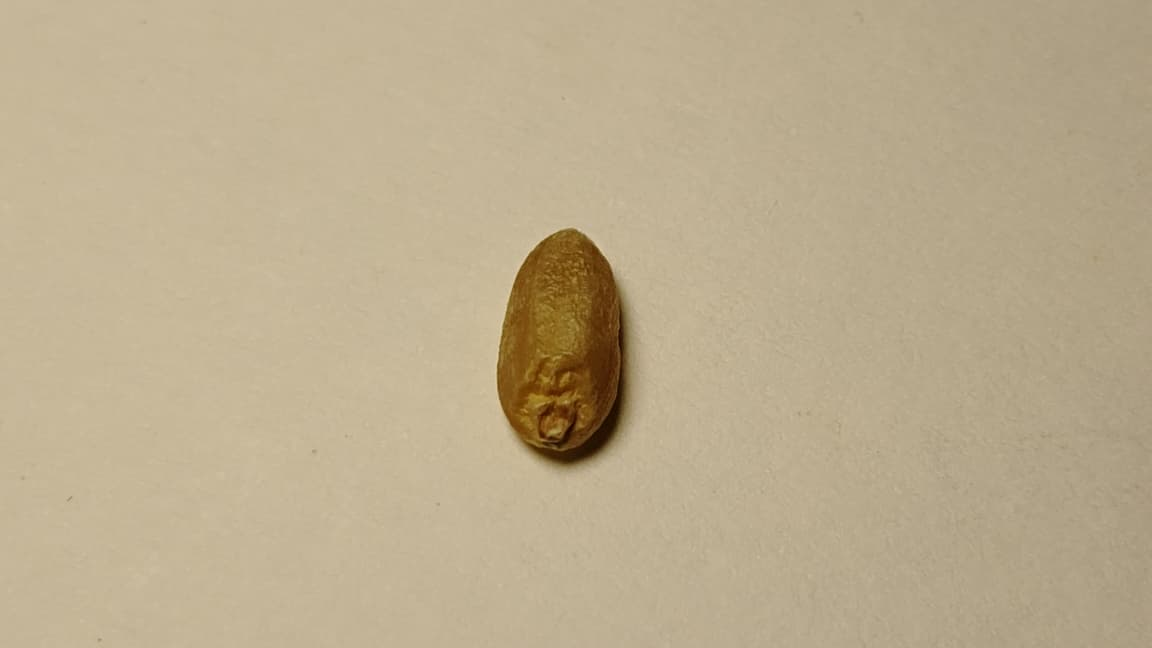healthy: (498, 229, 623, 452)
